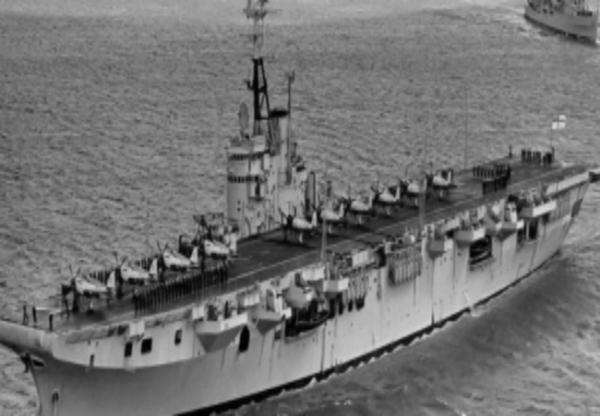Aircraft Carrier: (0, 2, 600, 416)
